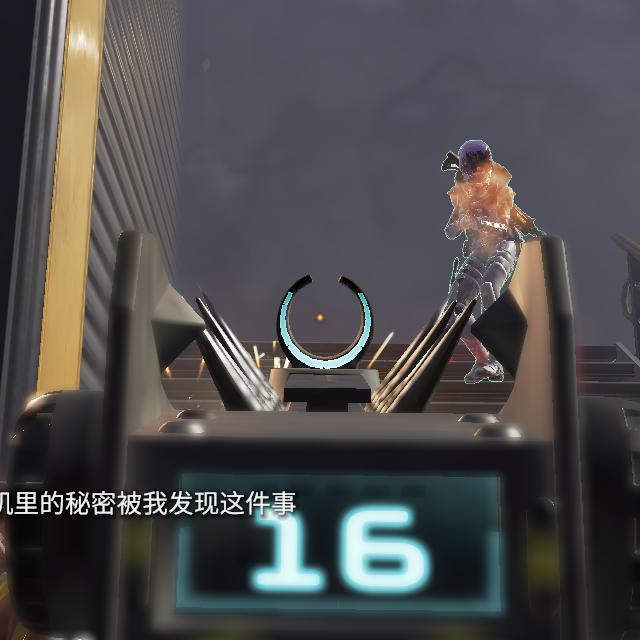avatar: (439, 135, 528, 388)
